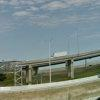Bridge: (18, 47, 98, 84)
